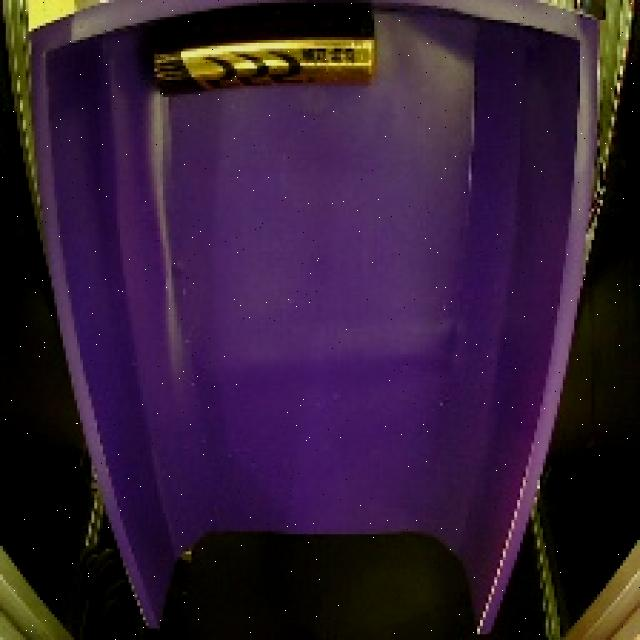battery: (138, 0, 382, 112)
